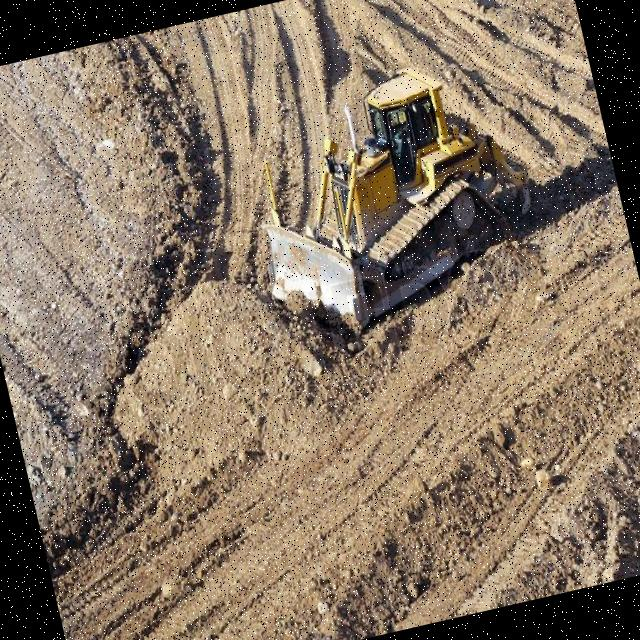Bulldozer: (221, 30, 568, 362)
